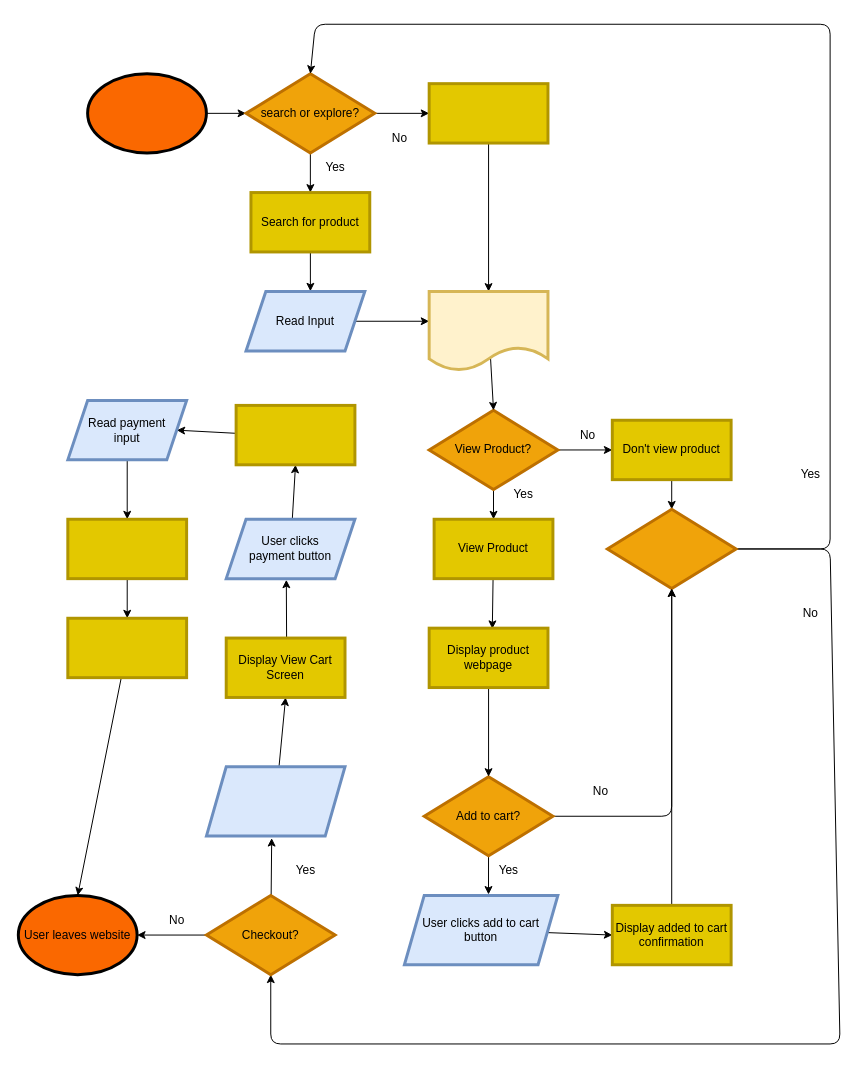
Some shapes in this 865 by 1069 pixel diagram are drawn without their labels. Here are the shapes that lost their labels. From the top down, the centre of each, then its label:
the point at 146,113: User enters website
the point at 488,113: Explore products on home
the point at 488,331: Display Products
the point at 295,434: Display View Payment Screen
the point at 127,548: Display Order Confirmation
the point at 671,548: Keep Shopping?
the point at 127,647: Send email to user
the point at 275,801: User clicks checkout button
